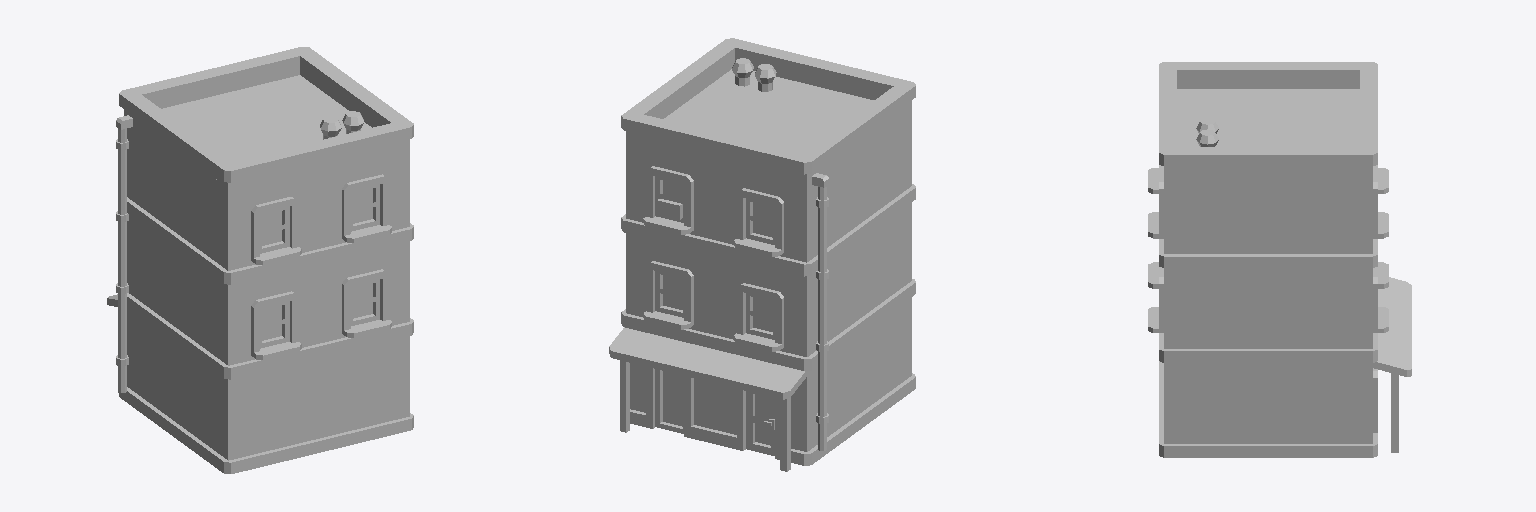
Rendered from commercial_building-h.obj.
3 renders of one model, left to right at view 1: azimuth 30°, elevation 25°; view 2: azimuth 150°, elevation 25°; view 3: azimuth 270°, elevation 25°, orthographic.
Visible parts, largest first — view 1: building-h; view 2: building-h; view 3: building-h.
Part boxes in pixels (left/top/right/bottom): building-h: left=107, top=47, right=413, bottom=473; building-h: left=609, top=38, right=915, bottom=471; building-h: left=1148, top=62, right=1411, bottom=457.
Bounding box in the file's own units: 0.8836 × 1.29 × 1.01.